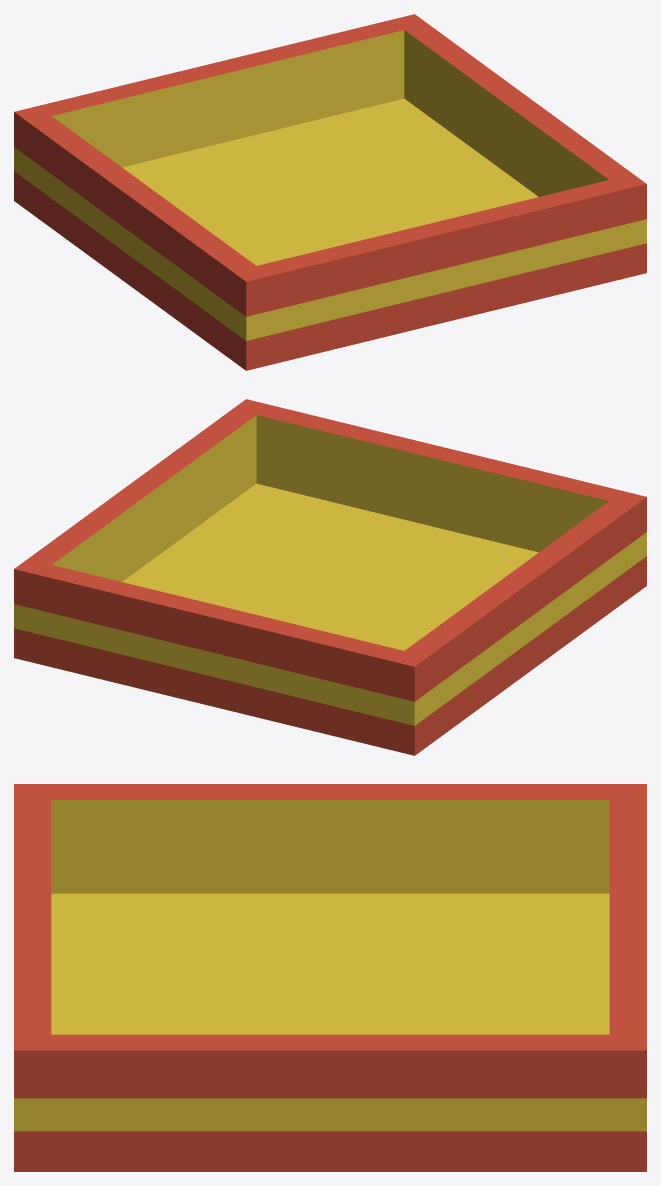
Rendered from SM_PackBox_S02_L01_01.fbx.
The picture shows the model from 3 angles, top to bottom: view 1: azimuth 30°, elevation 25°; view 2: azimuth 150°, elevation 25°; view 3: azimuth 270°, elevation 25°; orthographic projection. The views are drawn at different scales.
Visible parts, largest first — view 1: SM_PackBox_S02_L01_01; view 2: SM_PackBox_S02_L01_01; view 3: SM_PackBox_S02_L01_01.
Part boxes in pixels (x1,y1,x2,y2): SM_PackBox_S02_L01_01: (14, 14, 646, 370); SM_PackBox_S02_L01_01: (14, 399, 646, 755); SM_PackBox_S02_L01_01: (14, 784, 646, 1171).
Bounding box in the file's own units: 127 × 26.97 × 127.
